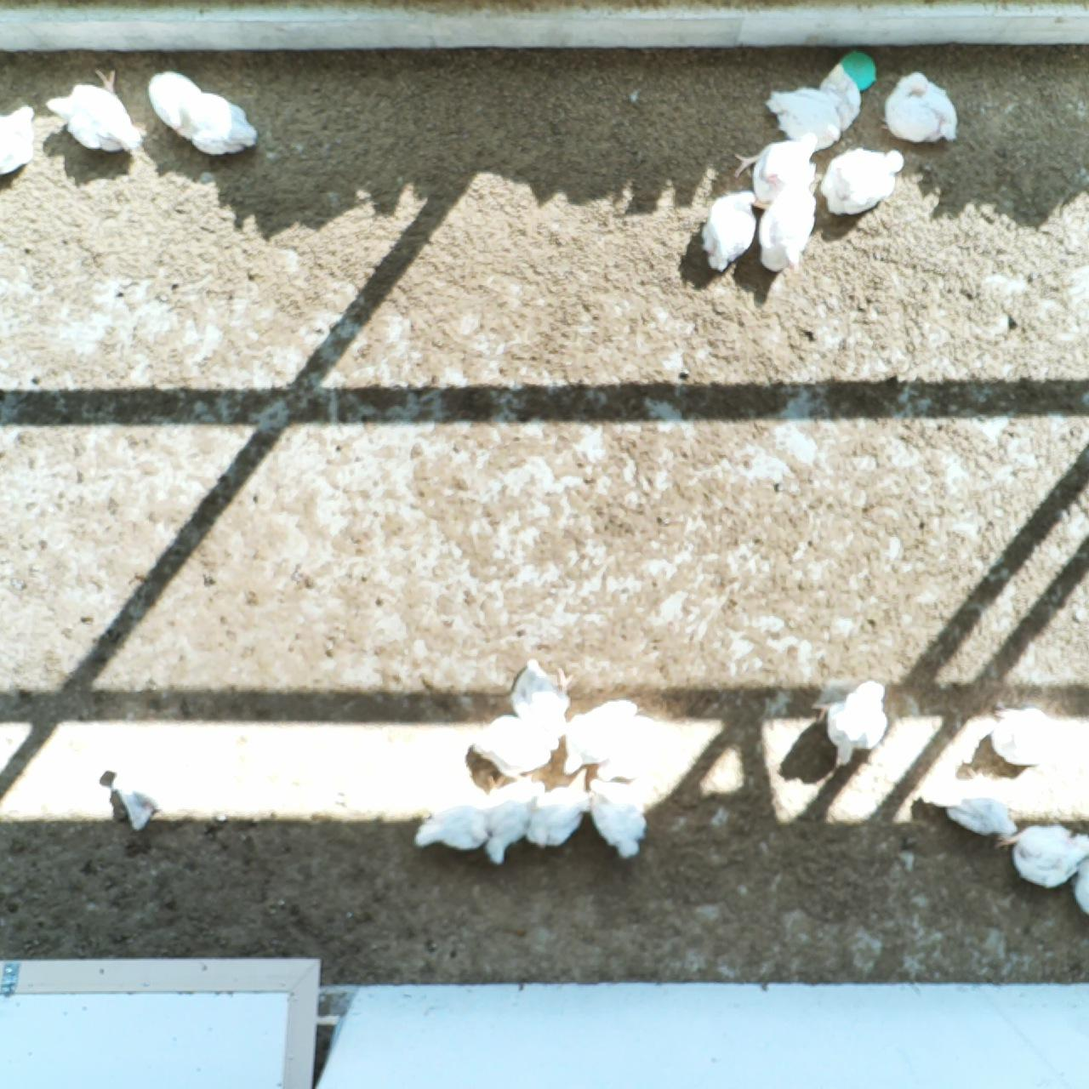chicken: (41, 67, 144, 157), (810, 676, 892, 769), (991, 814, 1089, 890), (932, 763, 1021, 842), (878, 69, 964, 148), (467, 711, 561, 780), (561, 697, 643, 775), (820, 147, 907, 220), (479, 773, 545, 868), (733, 130, 818, 203), (410, 782, 493, 855), (508, 654, 576, 739), (696, 187, 758, 276), (757, 186, 820, 273), (987, 703, 1065, 772), (765, 85, 844, 151), (588, 775, 649, 858), (182, 93, 259, 156), (596, 713, 664, 784), (526, 785, 596, 851), (146, 70, 201, 132), (821, 63, 865, 133), (0, 103, 38, 175)
